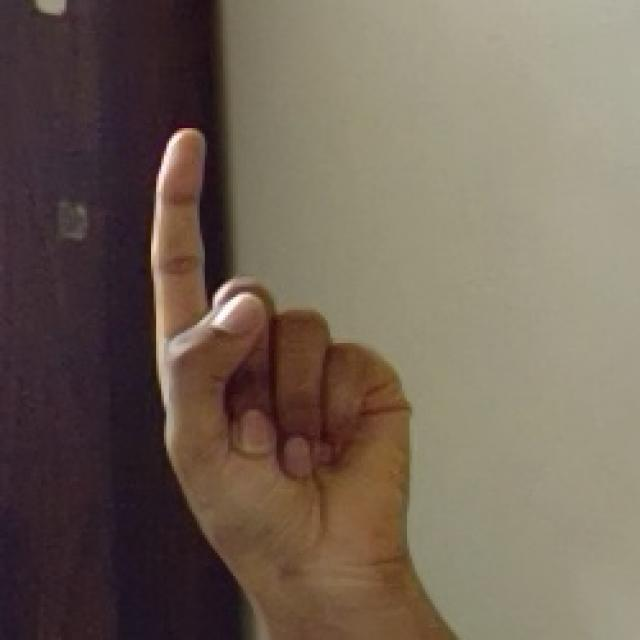Numeric-1: (142, 122, 415, 626)
